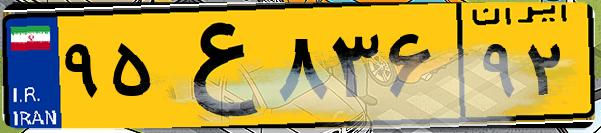2: (525, 38, 570, 115)
3: (330, 28, 385, 110)
5: (110, 28, 158, 98)
6: (385, 28, 445, 110)
8: (270, 28, 330, 110)
9: (57, 26, 110, 100), (475, 38, 525, 113)
ع: (158, 12, 270, 120)
